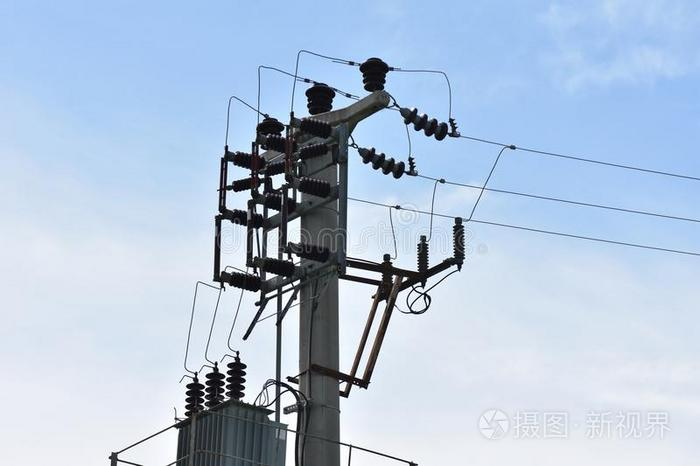insulator: (404, 107, 450, 141), (363, 148, 406, 180), (226, 363, 249, 398), (185, 381, 205, 418), (204, 372, 224, 406)
